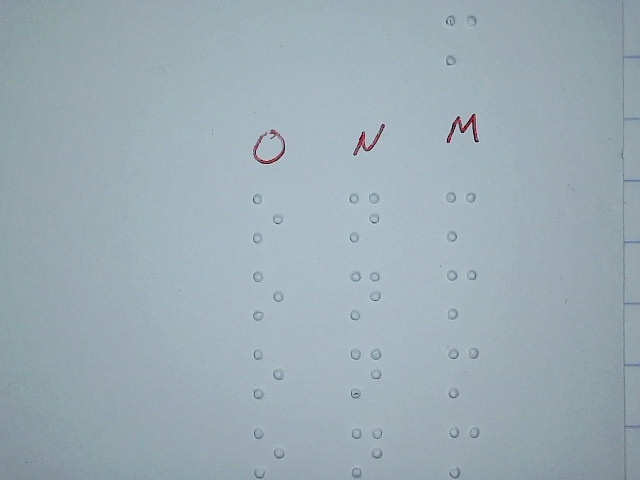M: (442, 187, 479, 243), (443, 266, 480, 322), (445, 344, 482, 400), (446, 424, 483, 480)
N: (345, 188, 382, 244), (346, 268, 383, 324), (347, 344, 384, 400), (348, 423, 385, 479)
O: (250, 191, 287, 247), (250, 267, 287, 323), (250, 346, 287, 402), (251, 423, 288, 479)
